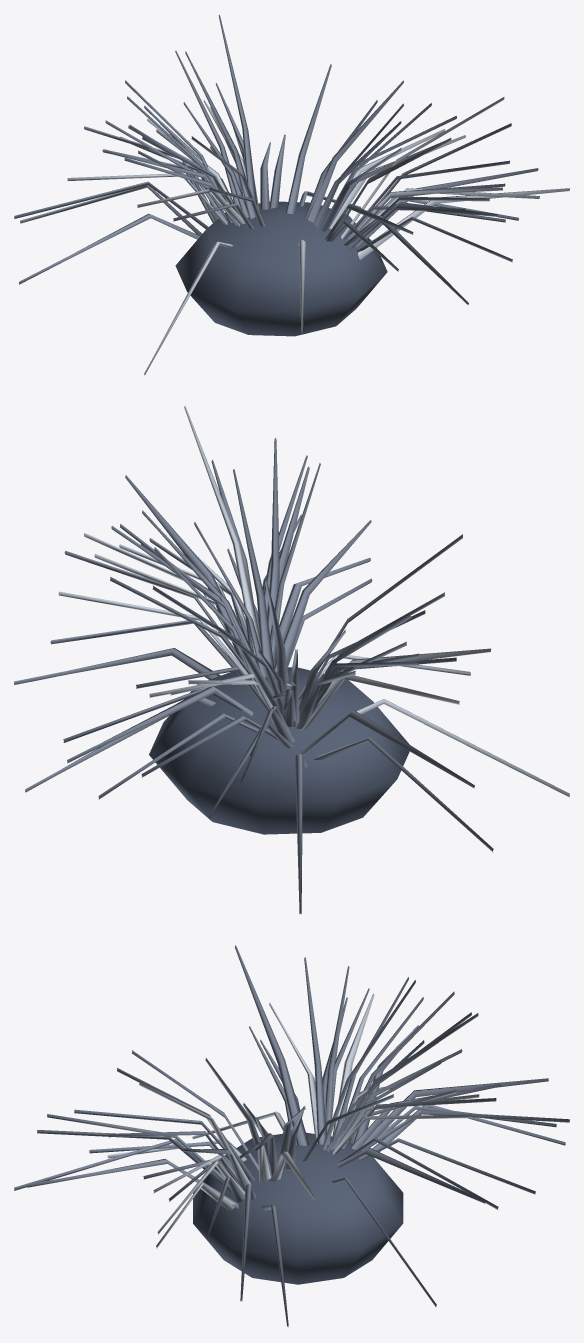
File: 低矮草.glb
3 renders of one model, top to bottom at view 1: azimuth 30°, elevation 25°; view 2: azimuth 150°, elevation 25°; view 3: azimuth 270°, elevation 25°, orthographic. The views are drawn at different scales.
Parts seen in each view (by area): view 1: garden-grass-low-leaf, garden-grass-low-soil, garden-grass-low-light; view 2: garden-grass-low-leaf, garden-grass-low-soil, garden-grass-low-light; view 3: garden-grass-low-leaf, garden-grass-low-soil, garden-grass-low-light.
Boxes of the visible parts, x1,y1,x2,y2 form: garden-grass-low-leaf: [14, 14, 538, 305]; garden-grass-low-soil: [175, 201, 387, 336]; garden-grass-low-light: [67, 97, 569, 375]; garden-grass-low-leaf: [14, 438, 493, 914]; garden-grass-low-soil: [149, 667, 409, 834]; garden-grass-low-light: [58, 405, 569, 796]; garden-grass-low-leaf: [14, 945, 569, 1327]; garden-grass-low-soil: [193, 1132, 403, 1284]; garden-grass-low-light: [107, 993, 479, 1248].
Size of the model in its own units: 0.8 by 0.42 by 0.8.
